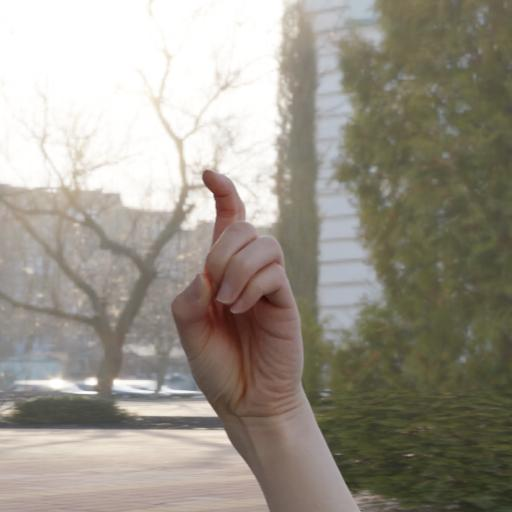X: (168, 150, 339, 431)
